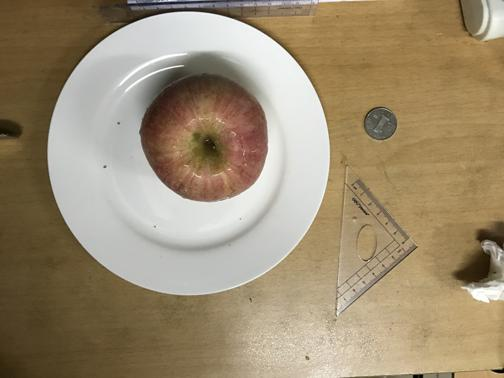apple: (141, 75, 269, 202)
coin: (363, 105, 398, 141)
